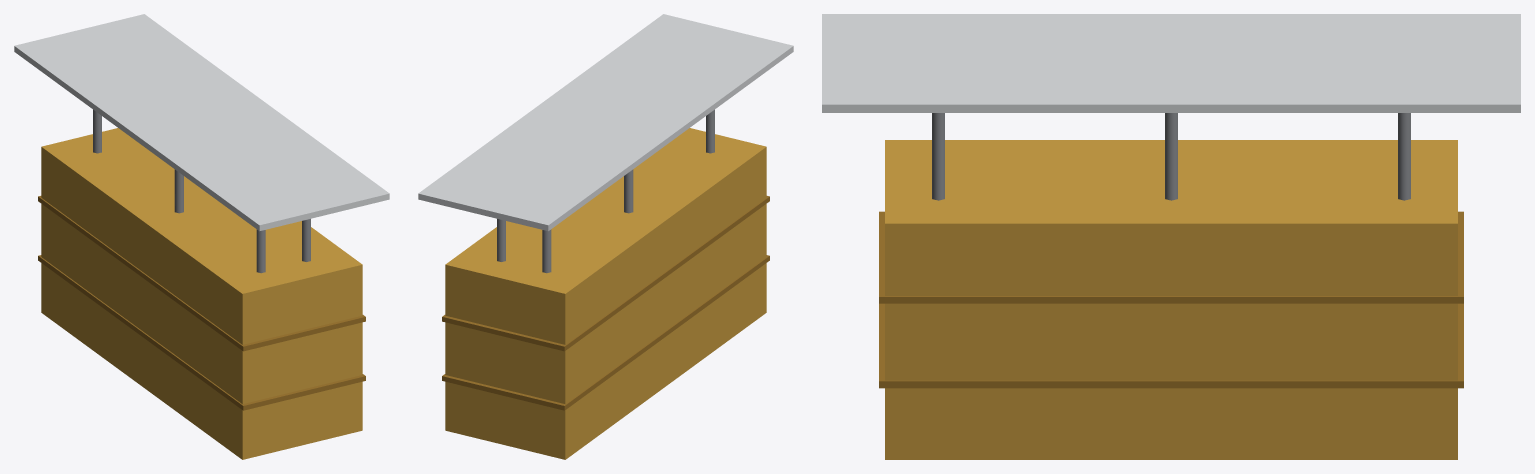
File: hr1_psu.obj
3 renders of one model, left to right at view 1: azimuth 30°, elevation 25°; view 2: azimuth 150°, elevation 25°; view 3: azimuth 270°, elevation 25°, orthographic. The views are drawn at different scales.
Parts seen in each view (by area): view 1: hr1_psu; view 2: hr1_psu; view 3: hr1_psu.
Part boxes in pixels (x1=…): hr1_psu: x1=14, y1=14, x2=389, y2=459; hr1_psu: x1=418, y1=14, x2=793, y2=459; hr1_psu: x1=822, y1=14, x2=1520, y2=459.
Size of the model in its own units: 0.46 by 0.85 by 1.5.
